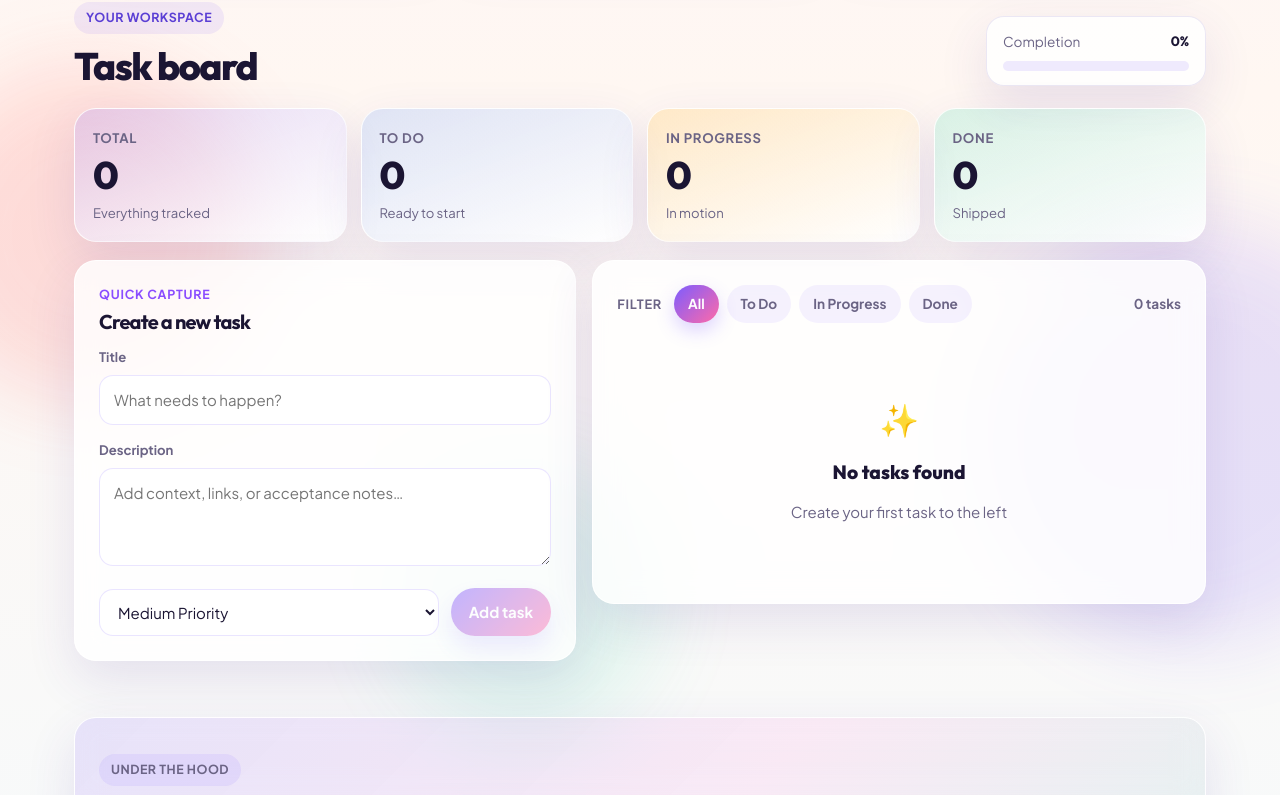
Test: App › creates a task from the form
(page scrolled)
Expected: the text "No tasks found" is shown, [833,458,966,488]
In the field labelled "Title": (325, 400) [99,376,551,426], type "New task"
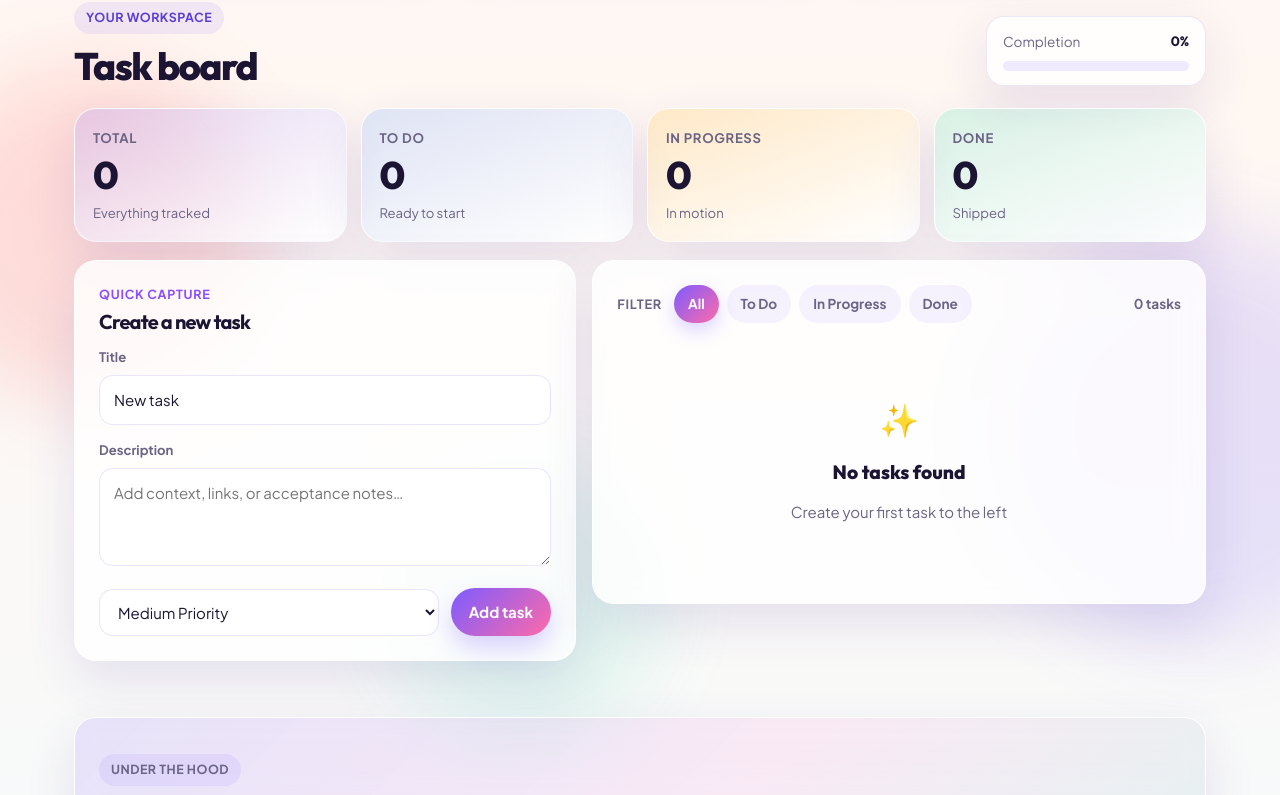
Click the button "Add task": (501, 612) [451,588,551,636]
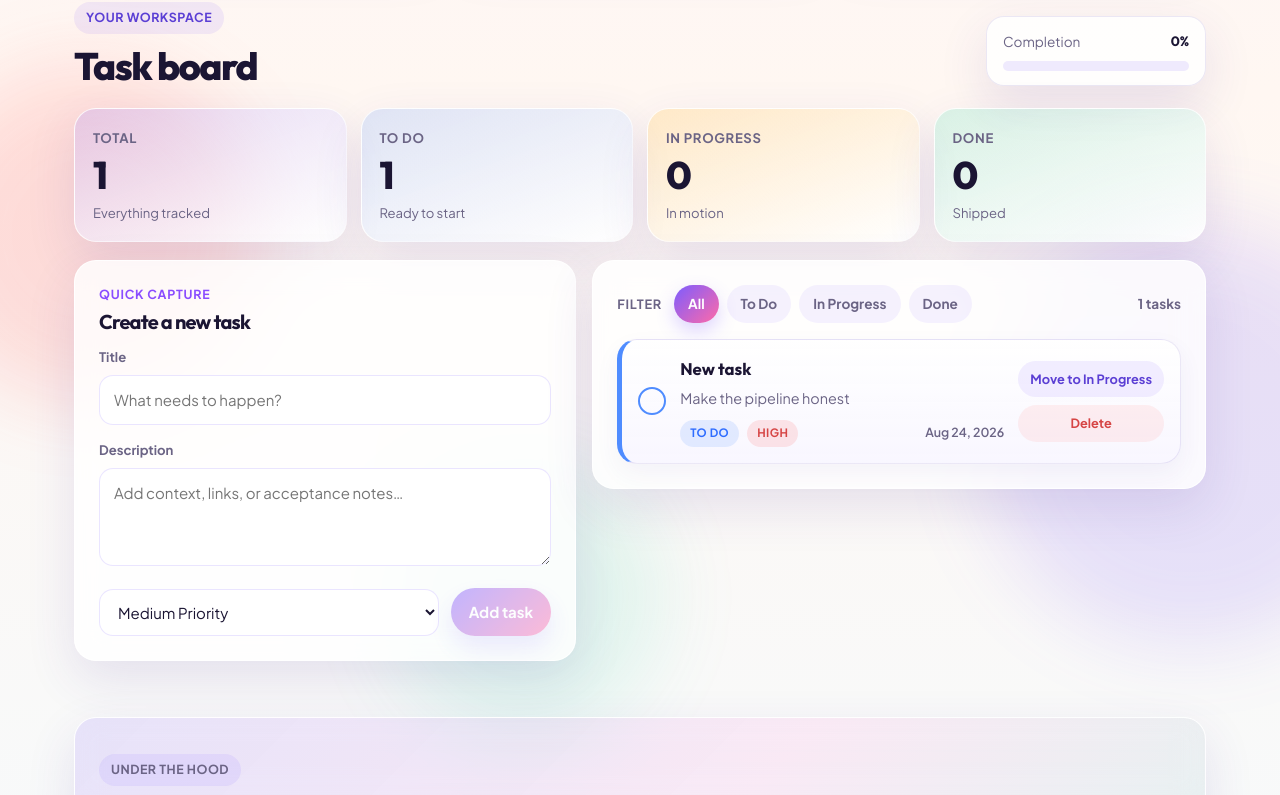
Expected: the text "New task" is shown, [680,358,751,379]
